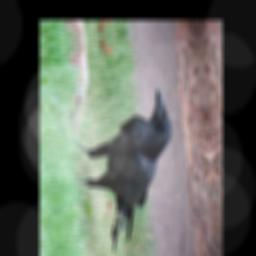Crow: (69, 84, 184, 256)
